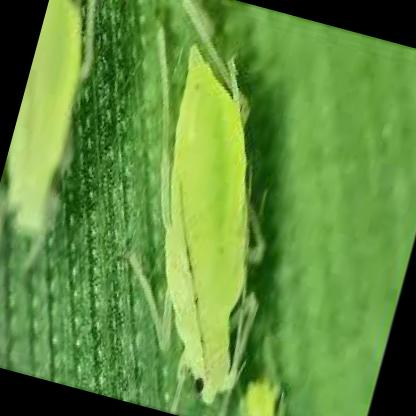schizaphis graminum: (158, 44, 250, 411)
